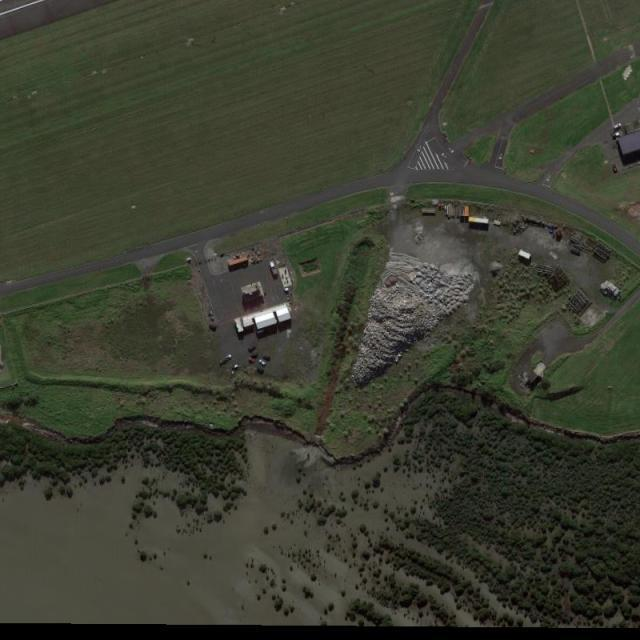vehicle: (612, 120, 623, 130), (247, 343, 257, 352), (255, 366, 266, 374), (247, 356, 257, 364), (262, 355, 271, 361), (258, 359, 266, 365)
